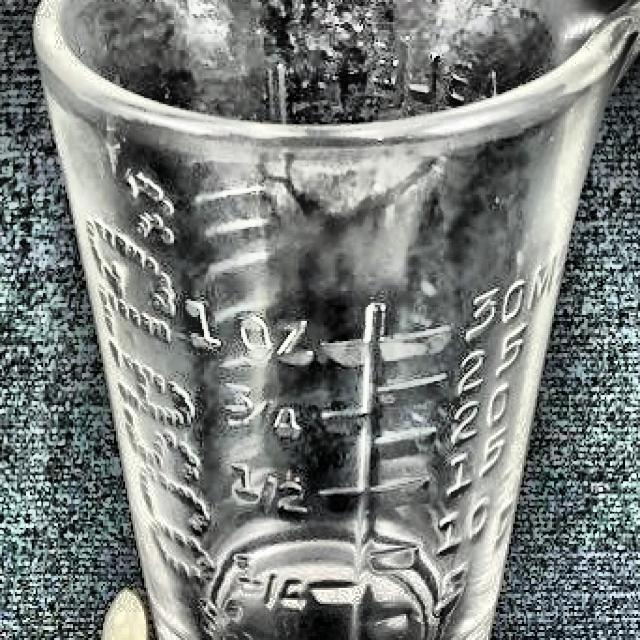glass: (24, 0, 640, 640)
